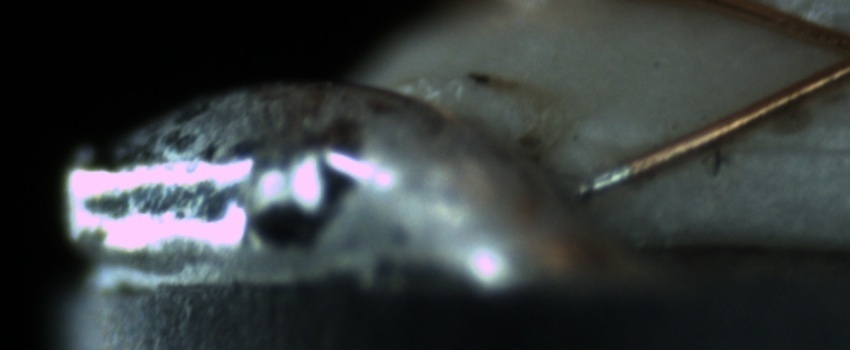CL: (805, 14, 850, 87)
DL: (711, 113, 850, 178)
TS: (574, 161, 631, 197)
